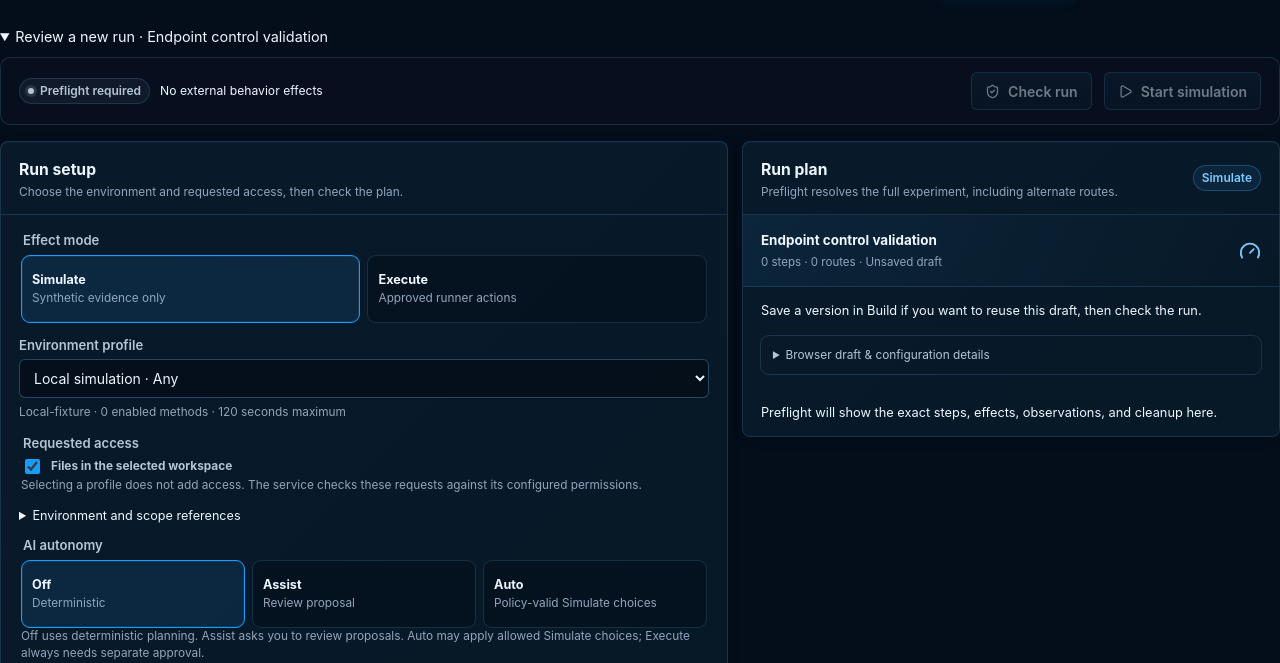
Test: guided local Execute onboarding › keeps durable approval controls disabled for pending request ID mismatch
Click the radio button labelled "Execute Approved runner actions": (537, 289) 368,255 -> 707,323
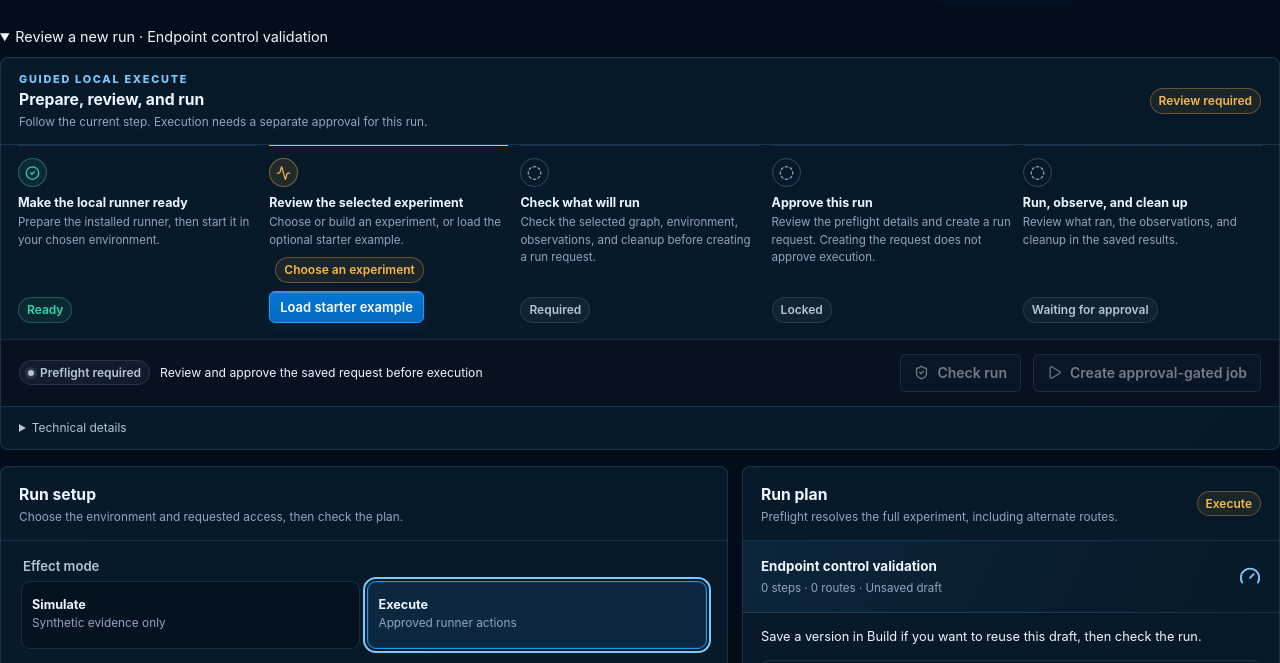
Click the button "Load starter example": (347, 306) 269,290 -> 424,322
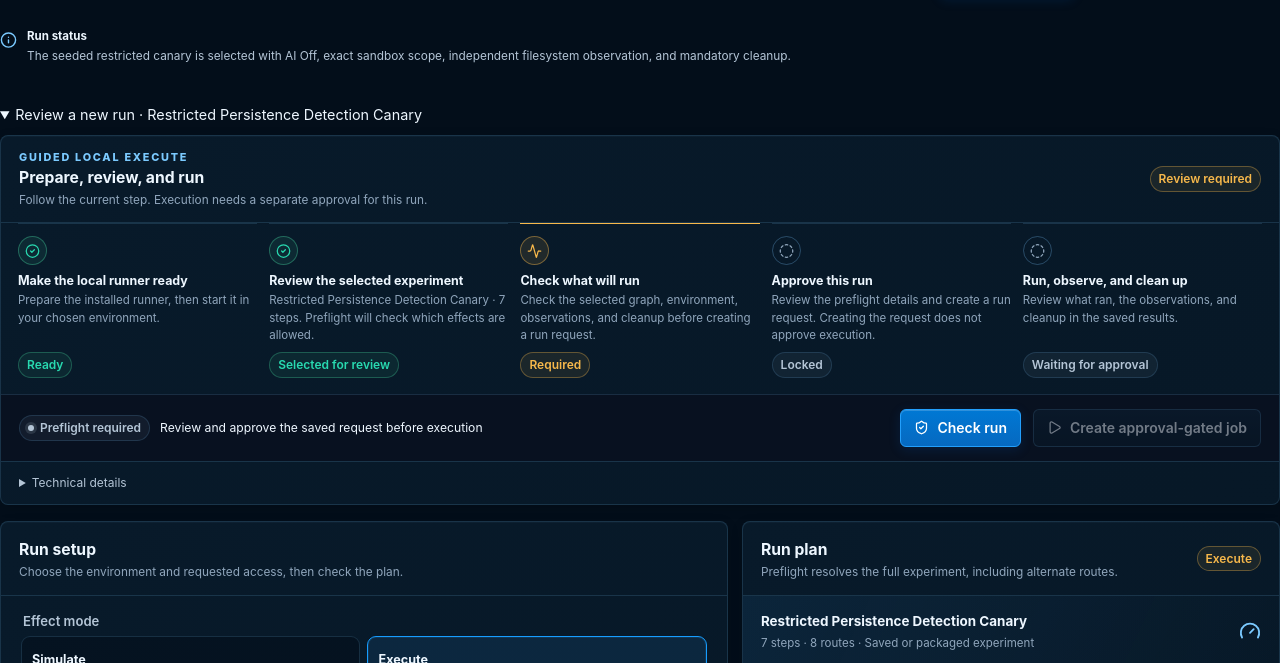
Click the button "Check run": (961, 428) 900,409 -> 1021,447
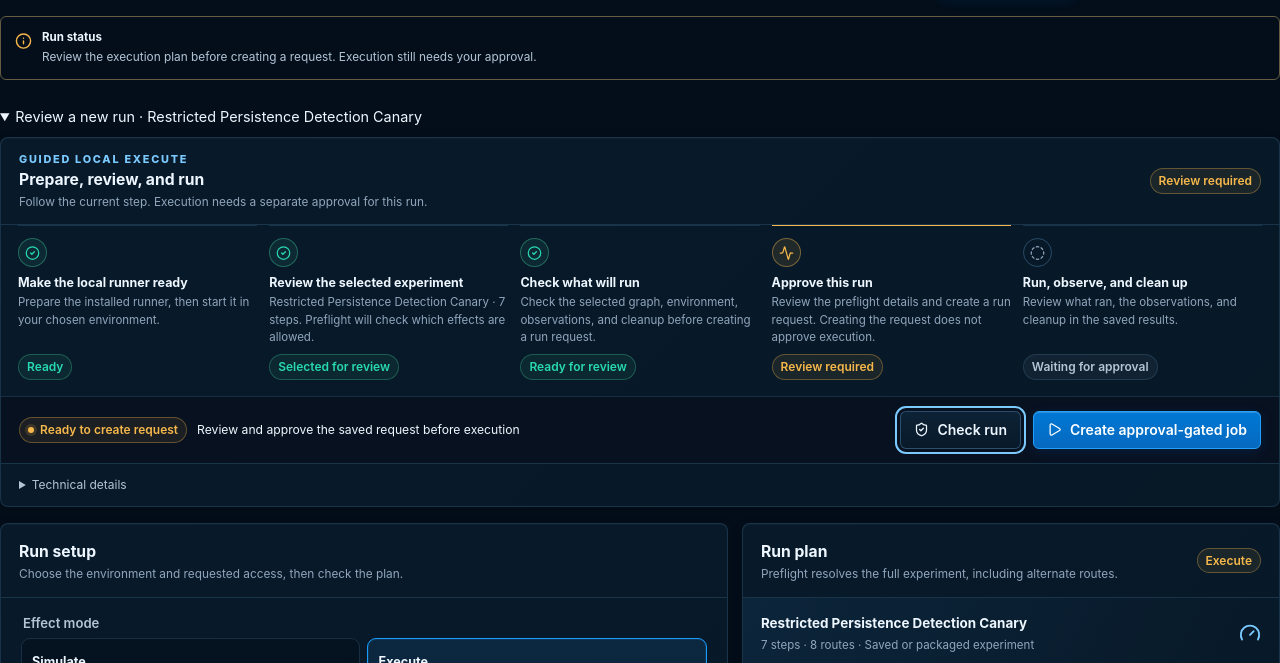
Click the button "Create approval-gated job": (1147, 430) 1033,411 -> 1261,449
(page scrolled)
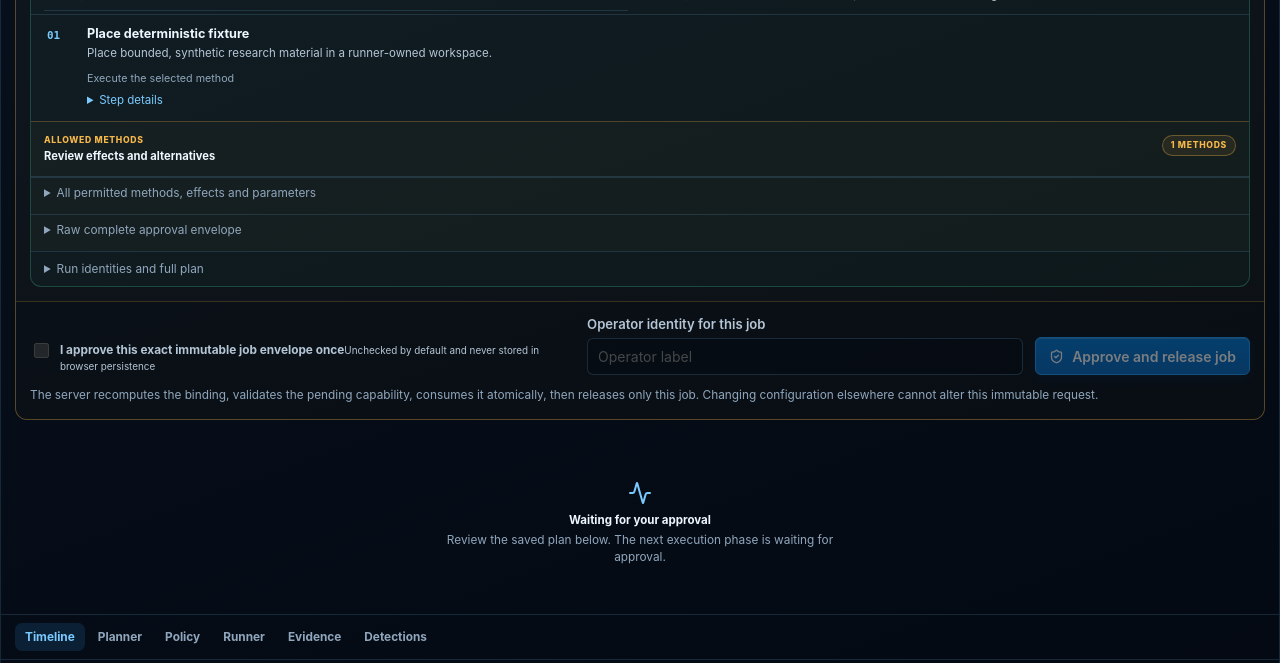
Now the checkbox labelled "I approve this exact immutable job envelope once" is disabled, box 34,343 -> 49,358
Now the field labelled "Operator identity for this job" is disabled, box 587,338 -> 1023,375
Now the button "Approve and release job" is disabled, box 1035,337 -> 1250,375
